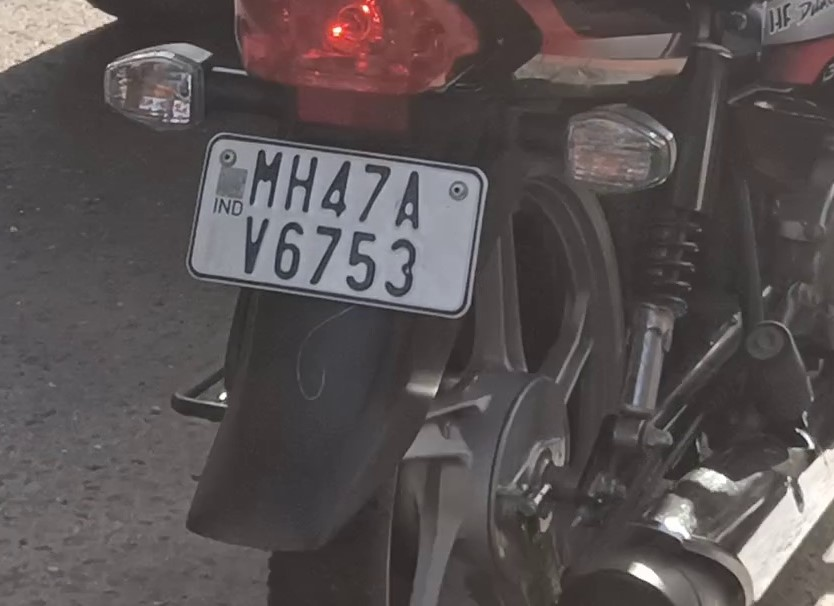MH47AV6753: (190, 137, 483, 315)
